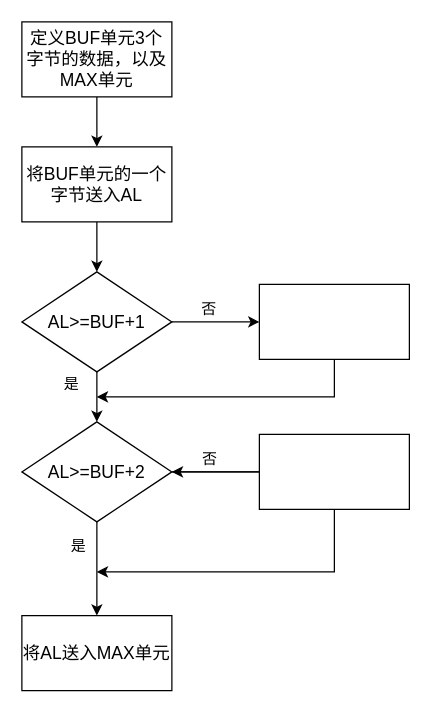
Some shapes in this 431 by 713 pixel diagram are drawn without their labels. Here are the shapes that lost their labels. From the top down, the centre of each, then its label:
pixel 333 321: 把BUF+1送入AL
pixel 333 471: 把BUF+2送入AL
